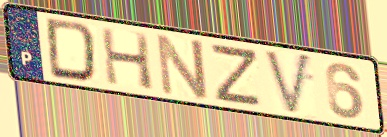6: (323, 61, 368, 122)
D: (44, 16, 100, 85)
H: (98, 25, 156, 92)
N: (154, 31, 211, 102)
V: (261, 47, 314, 119)
Z: (210, 43, 264, 109)
